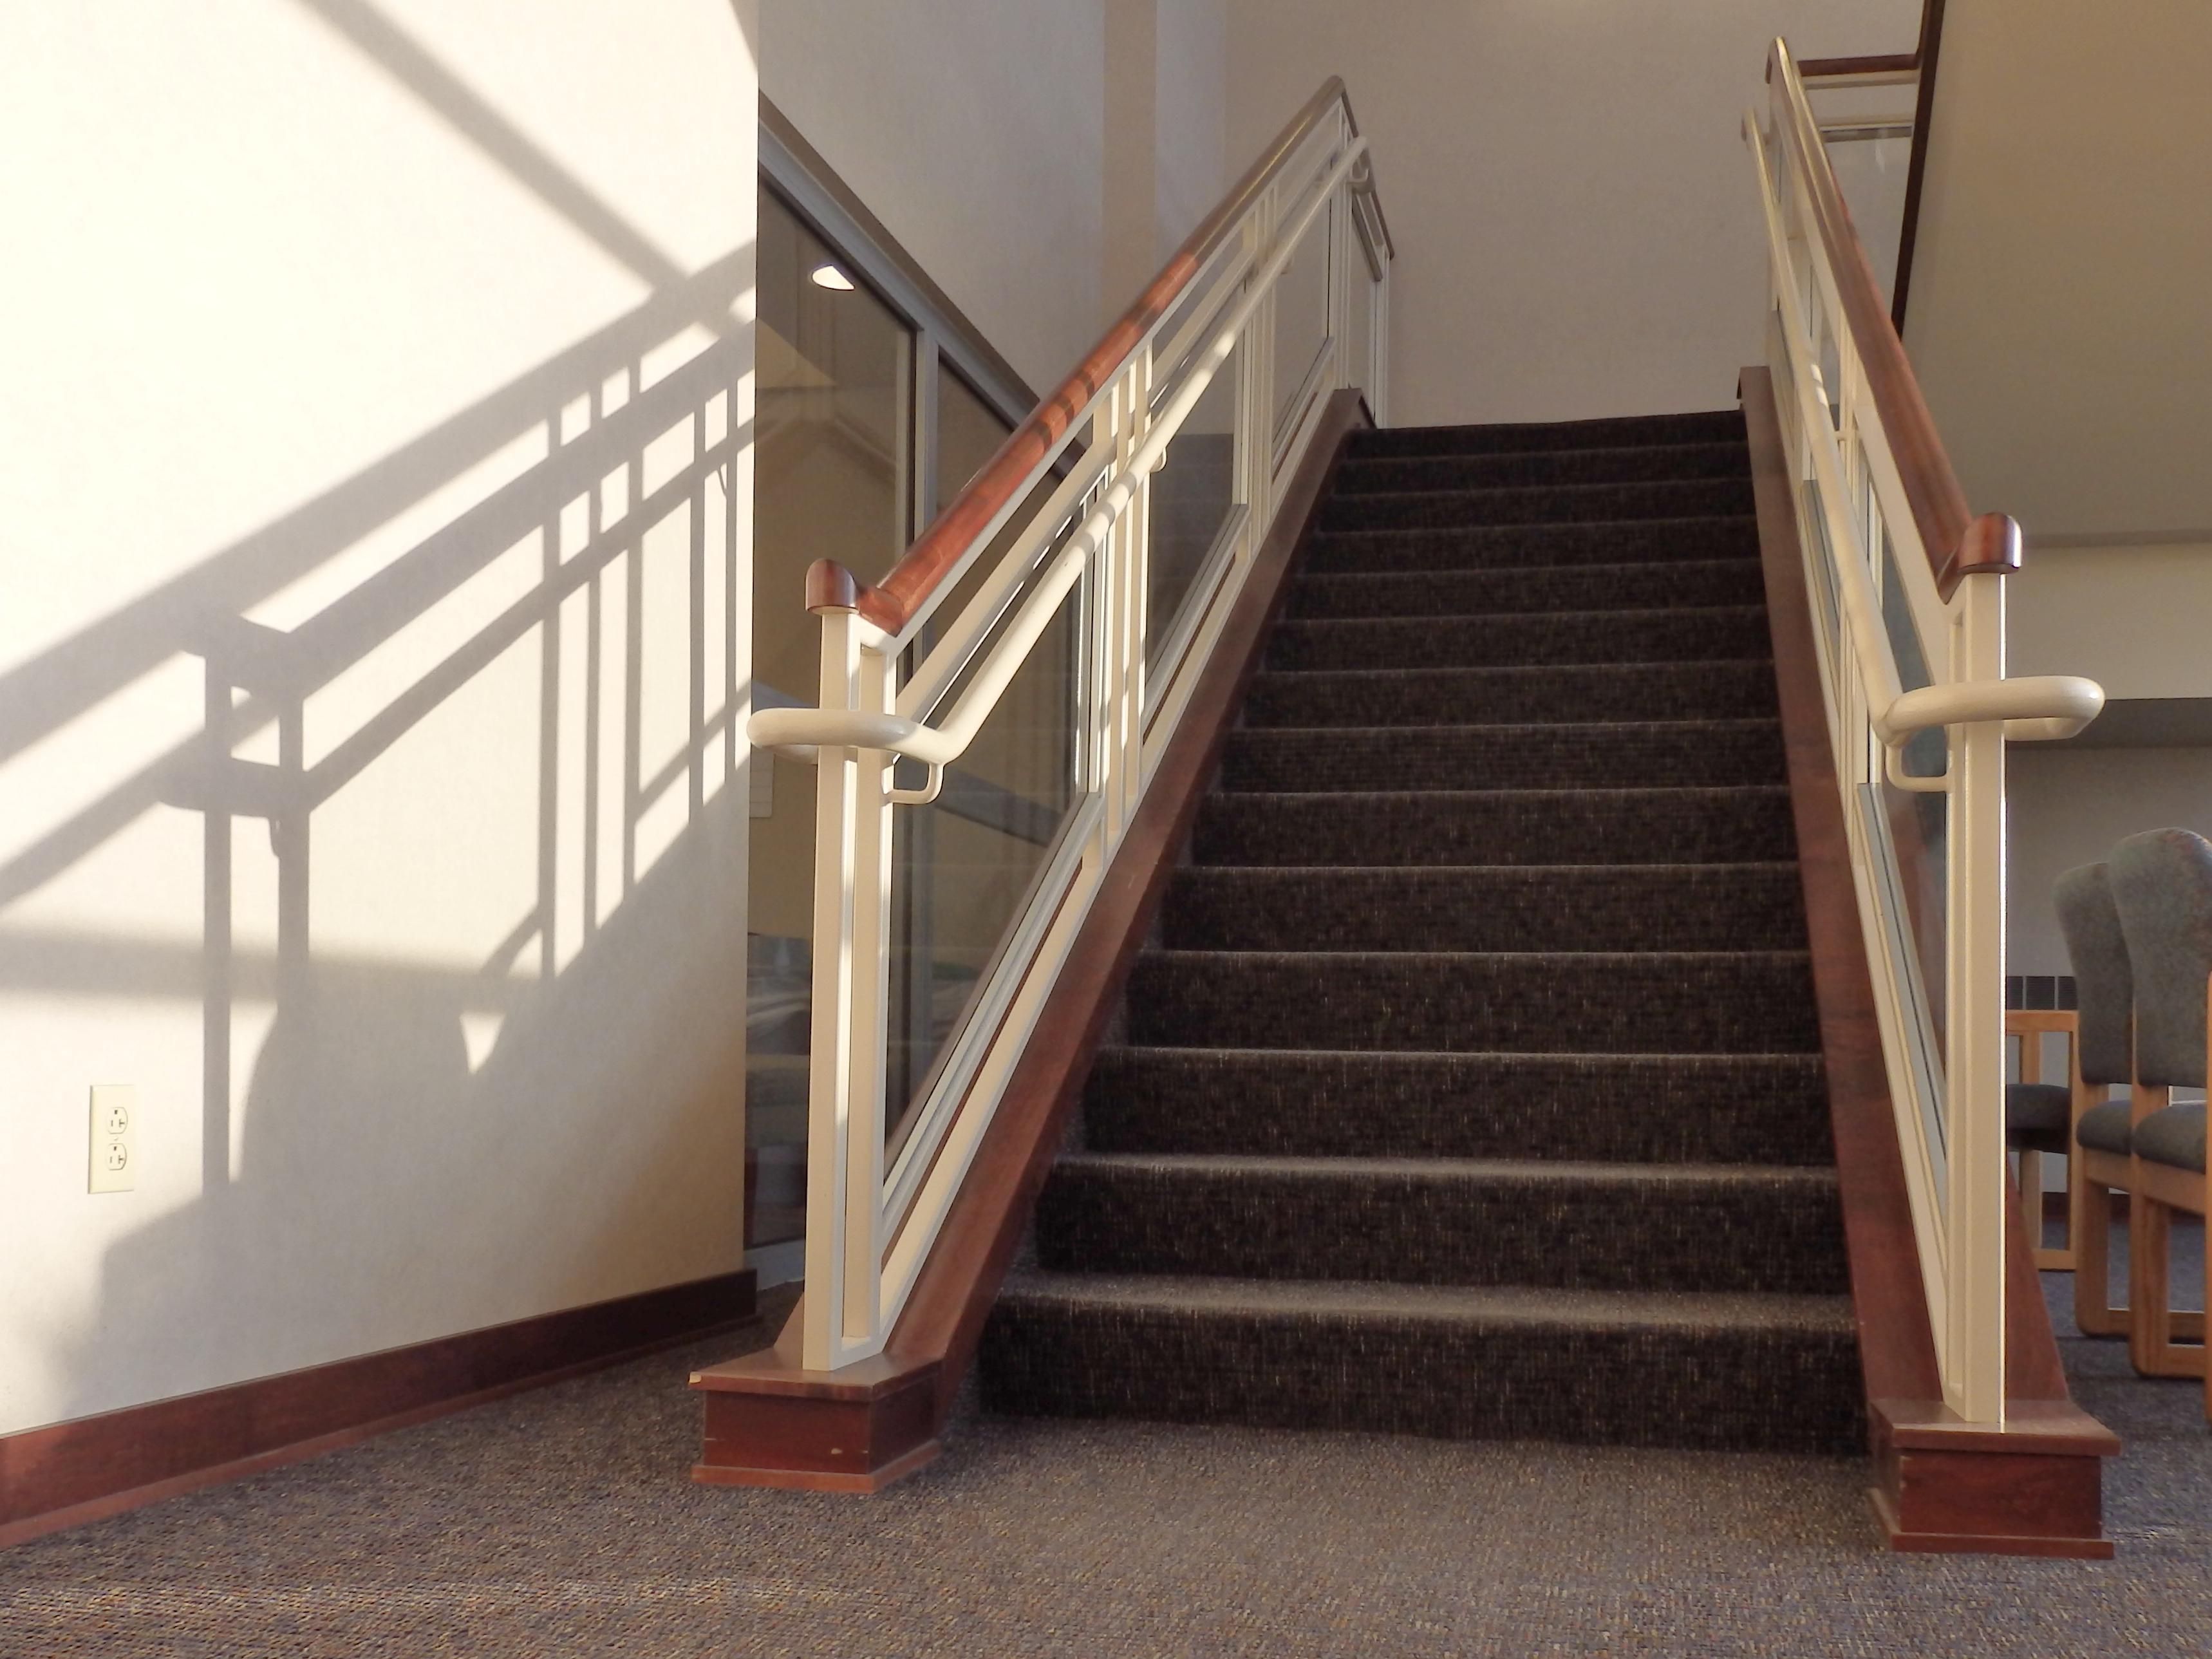stairs_up: (1038, 376, 1857, 1460)
